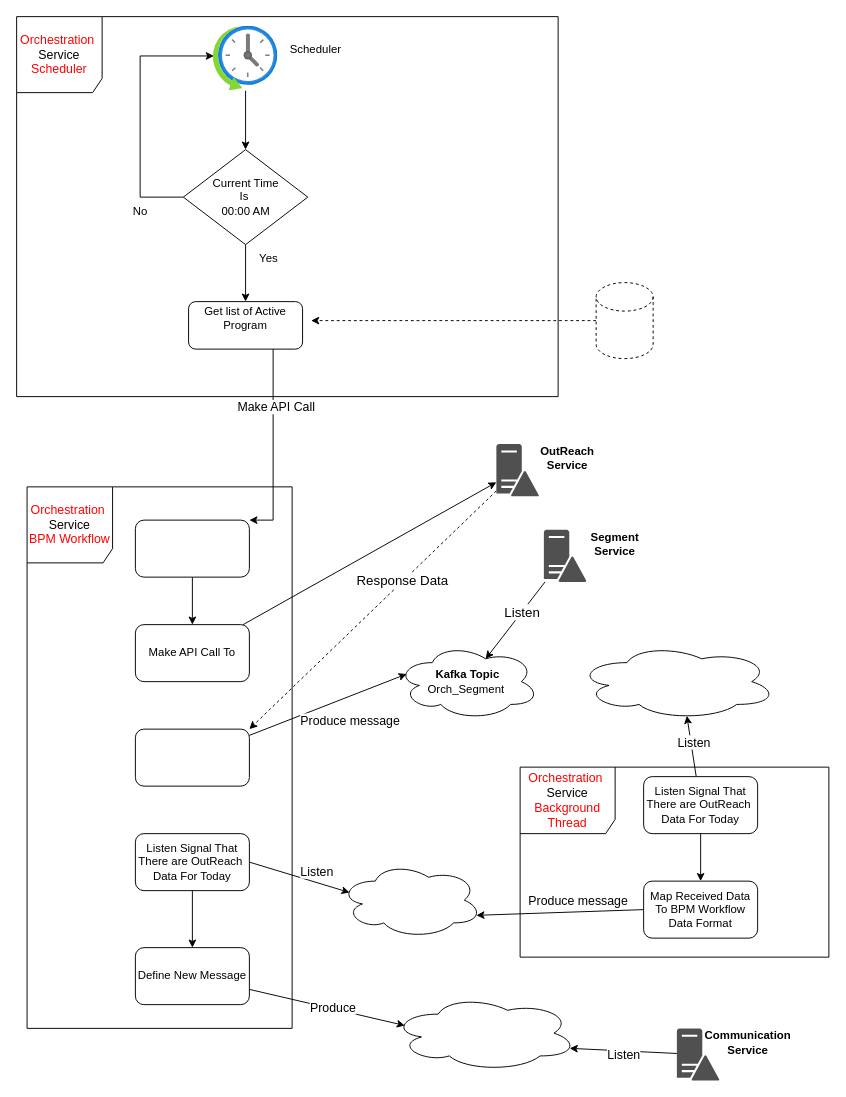
Some shapes in this 846 by 1097 pixel diagram are drawn without their labels. The centre of each missing label's shape, as x and y in pixels:
API To Trigger Initial Step Of The Workflow: the point at 191,548
DB: the point at 624,320
Kafka Topic Orch_Communication: the point at 484,1032
Kafka Topic Orch_internal: the point at 410,899
Kafka Topic OutReach_Orch_Signal: the point at 676,681
Receive OutReach Id: the point at 191,757
